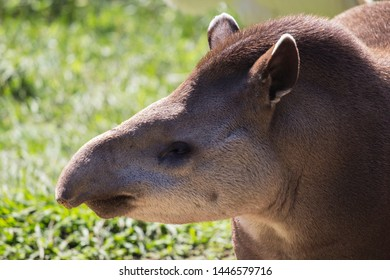Anta: (49, 6, 383, 250)
